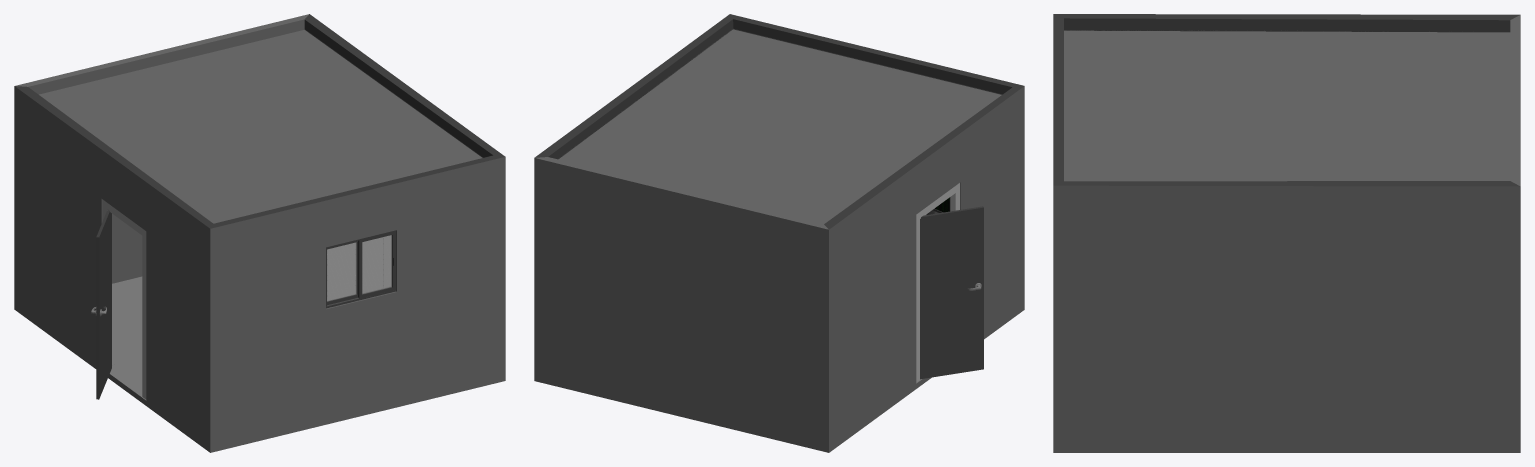
The model's file is hacker-room.glb.
3 renders of one model, left to right at view 1: azimuth 30°, elevation 25°; view 2: azimuth 150°, elevation 25°; view 3: azimuth 270°, elevation 25°, orthographic. The views are drawn at different scales.
Parts seen in each view (by area): view 1: Room, Door; view 2: Room, Door; view 3: Room.
Part boxes in pixels (x1=…): Room: x1=14, y1=14, x2=505, y2=452; Door: x1=91, y1=209, x2=111, y2=399; Room: x1=534, y1=14, x2=1024, y2=452; Door: x1=920, y1=206, x2=983, y2=379; Room: x1=1053, y1=14, x2=1520, y2=452.
Bounding box in the file's own units: 5.62 × 3.61 × 5.73.
3 materials, 2 textured.
